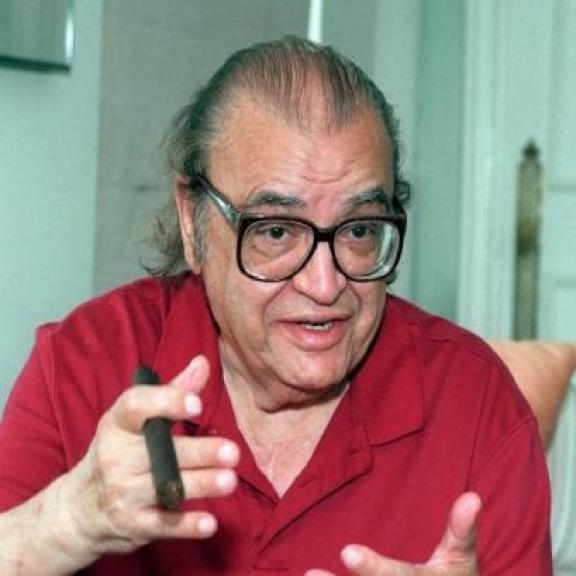face: (162, 97, 404, 395)
